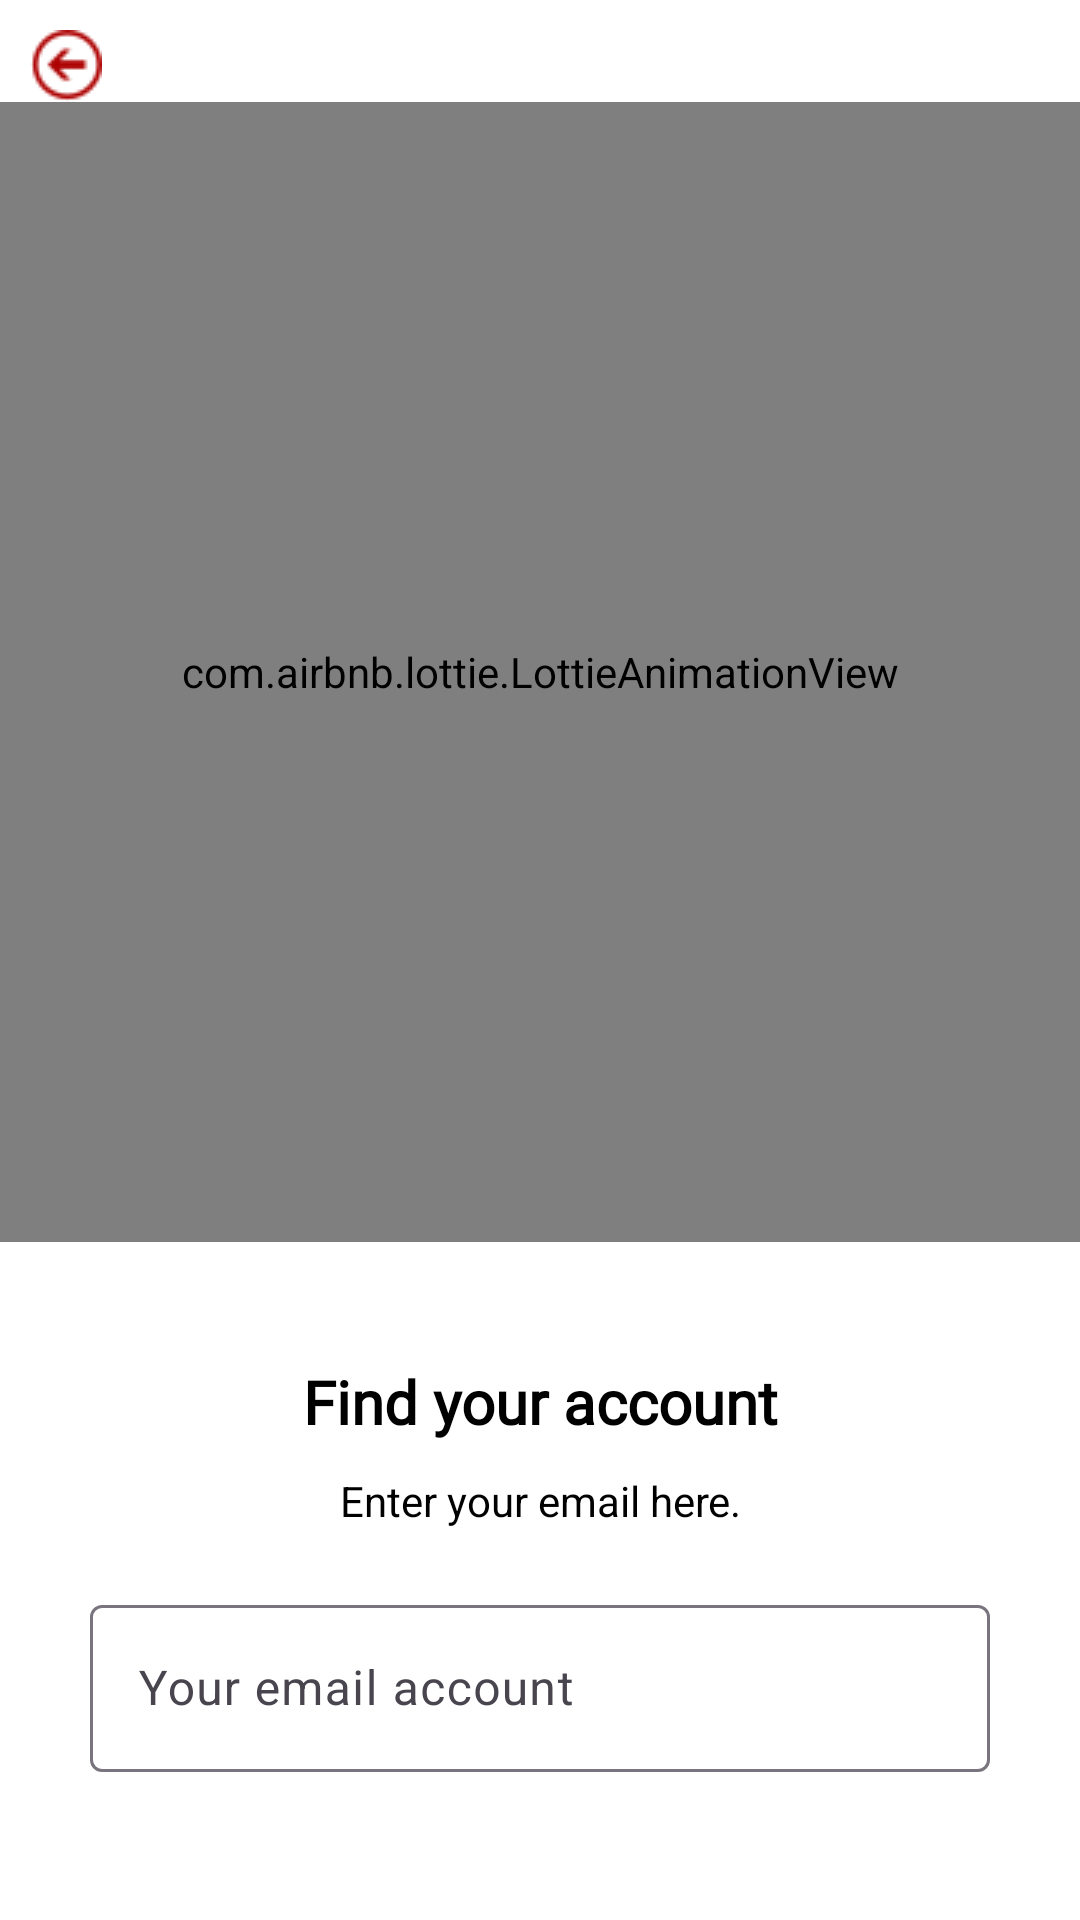

Icons on this 1080w x 1920h Android screen, each with the point to tap as (x,y):
backarrow: (67,65)
